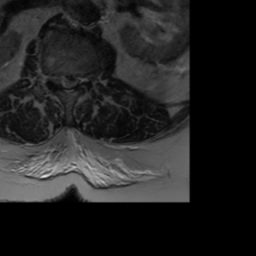CCS_stenosis: (65, 68, 71, 100)
LFS_stenosis: (79, 68, 87, 92)
LLS_stenosis: (71, 68, 79, 93)
RFS_normal: (50, 65, 58, 88)
RLS_stenosis: (58, 67, 65, 94)
